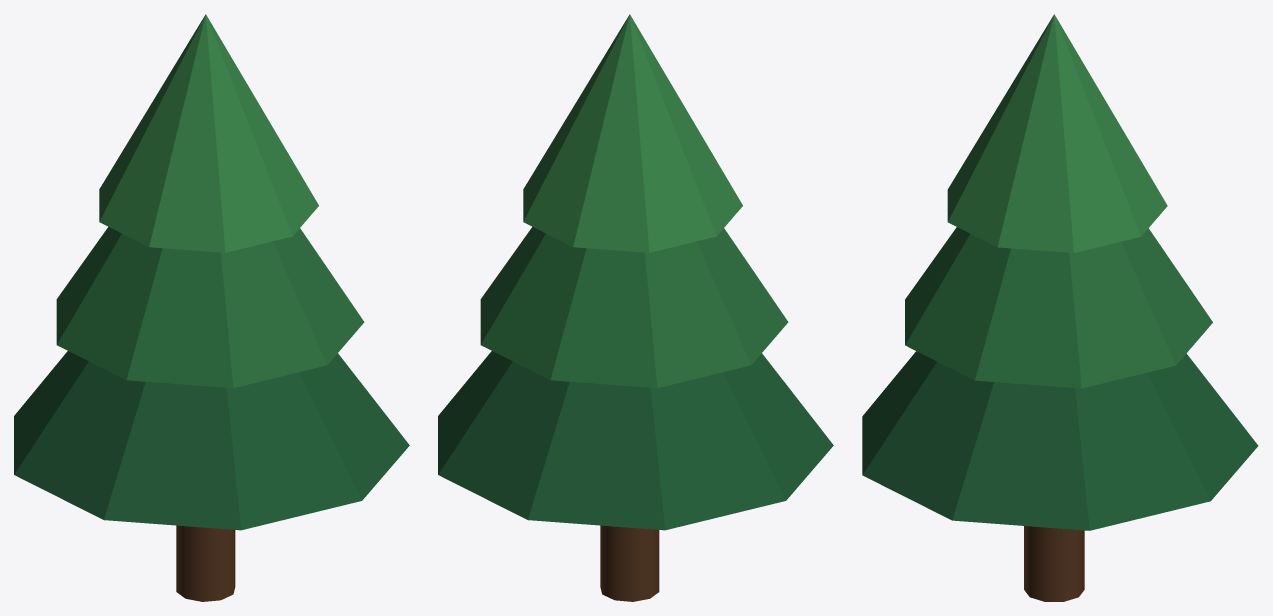
The model's file is tree_pine.glb.
The picture shows the model from 3 angles, left to right: view 1: azimuth 30°, elevation 25°; view 2: azimuth 150°, elevation 25°; view 3: azimuth 270°, elevation 25°; orthographic projection.
Visible parts, largest first — view 1: Tier1, Tier2, Tier3, Trunk; view 2: Tier1, Tier2, Tier3, Trunk; view 3: Tier1, Tier2, Tier3, Trunk.
Boxes of the visible parts, x1,y1,x2,y2 form: Tier1: (14,351,409,530); Tier2: (56,227,364,388); Tier3: (99,14,318,252); Trunk: (176,525,235,601); Tier1: (438,351,833,530); Tier2: (480,227,788,388); Tier3: (523,14,742,252); Trunk: (600,525,659,601); Tier1: (862,351,1258,530); Tier2: (905,227,1212,388); Tier3: (947,14,1167,252); Trunk: (1024,526,1084,601).
Size of what is drawn, in the model's own units: 2.66 by 4.2 by 2.62.
